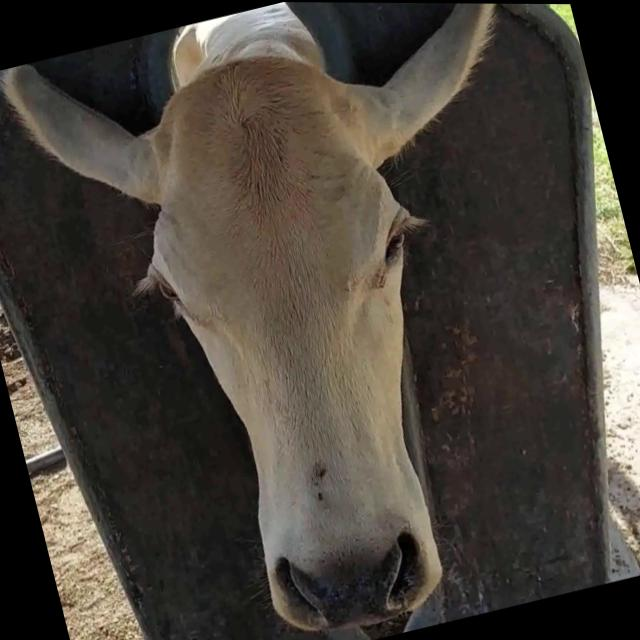cowFace: (112, 22, 498, 640)
